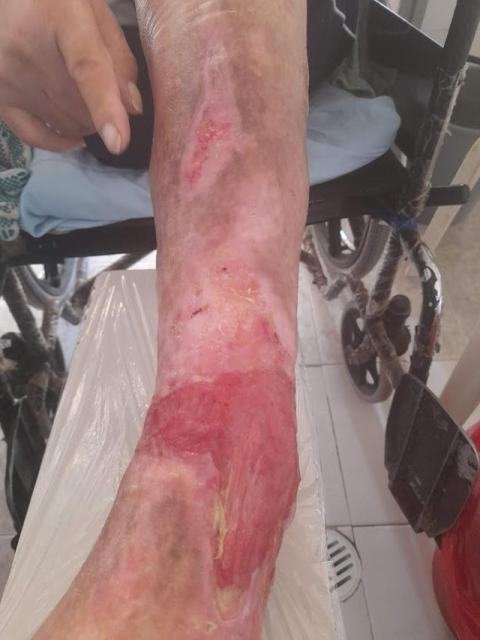wound: (136, 365, 301, 620)
